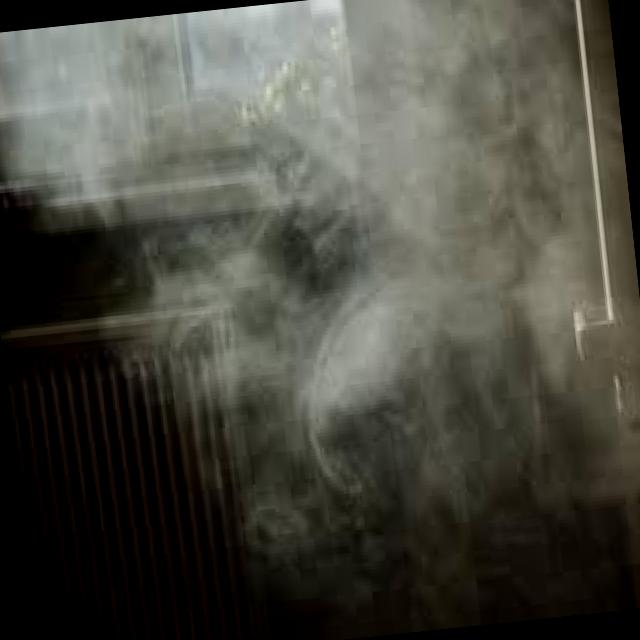smoke: (157, 0, 640, 533)
